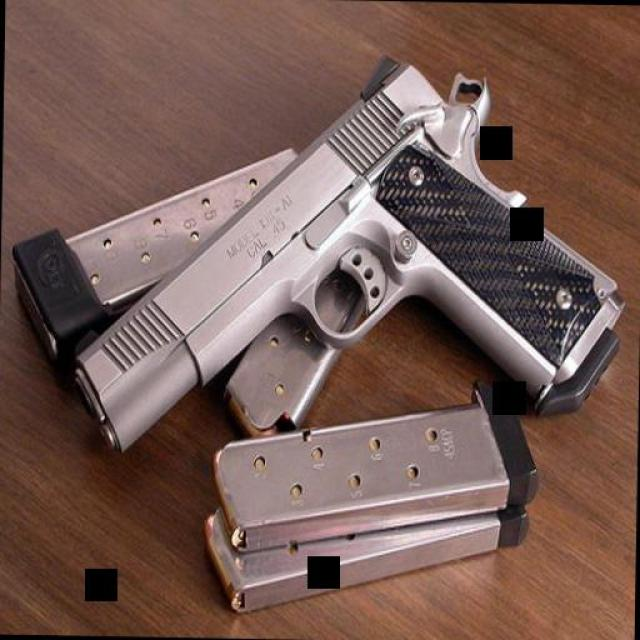gun: (71, 40, 629, 470)
